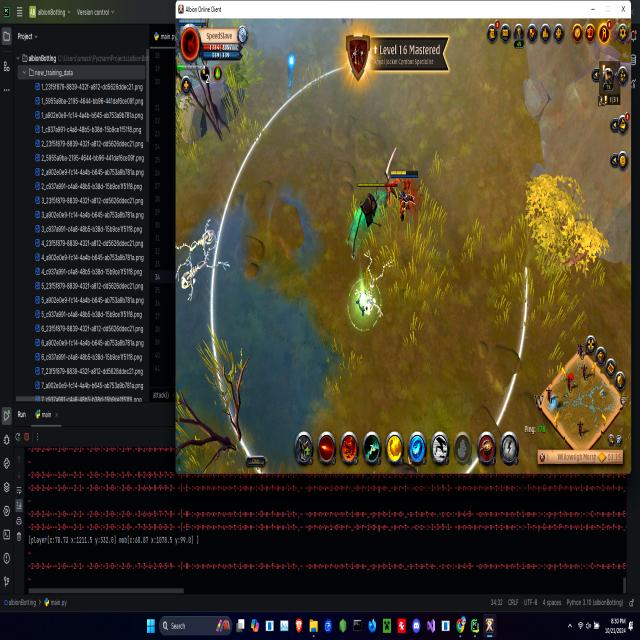ore: (372, 144, 400, 216)
red: (385, 160, 422, 223), (175, 16, 209, 26)
